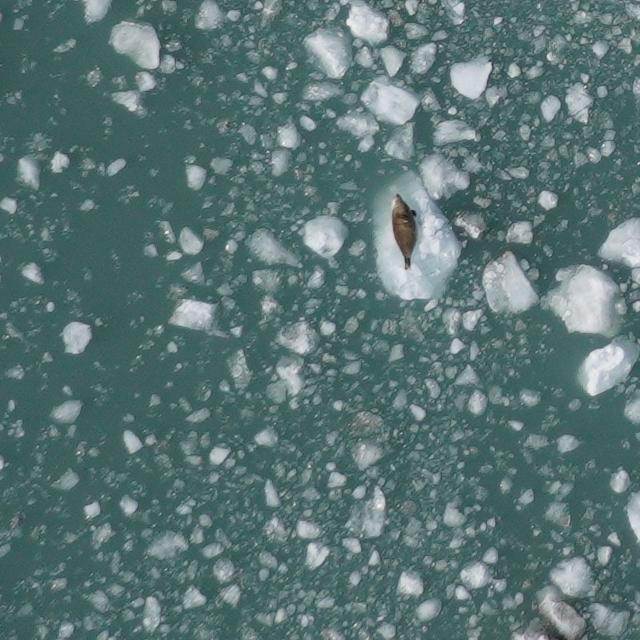seal: (389, 190, 421, 275)
